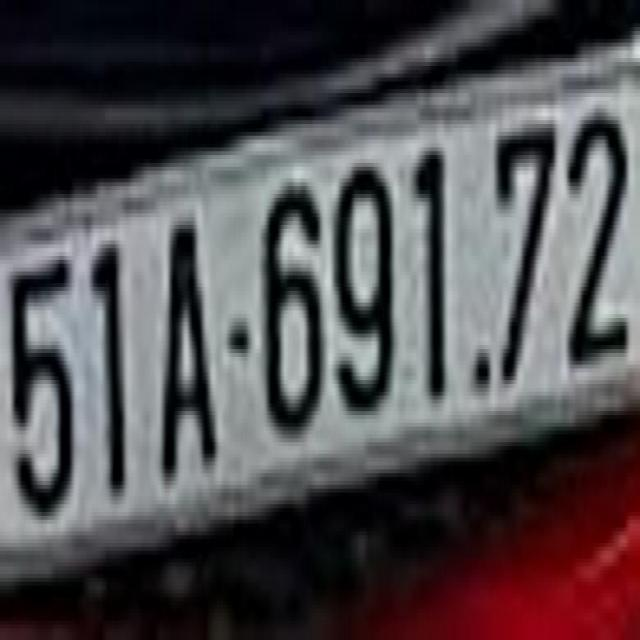1: (88, 225, 131, 489), (416, 136, 450, 411)
2: (566, 108, 629, 360)
5: (6, 256, 78, 508)
6: (266, 167, 322, 430)
7: (494, 108, 555, 388)
9: (337, 178, 391, 419)
A: (158, 221, 222, 493)
